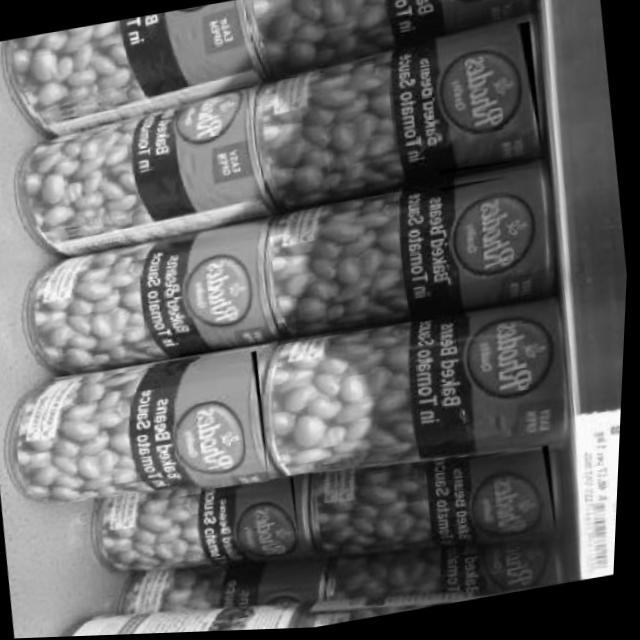Beans: (450, 301, 581, 463), (419, 24, 547, 179), (433, 172, 560, 315), (163, 351, 278, 501), (164, 223, 274, 361), (459, 448, 565, 558), (157, 89, 259, 187), (220, 478, 308, 572)
